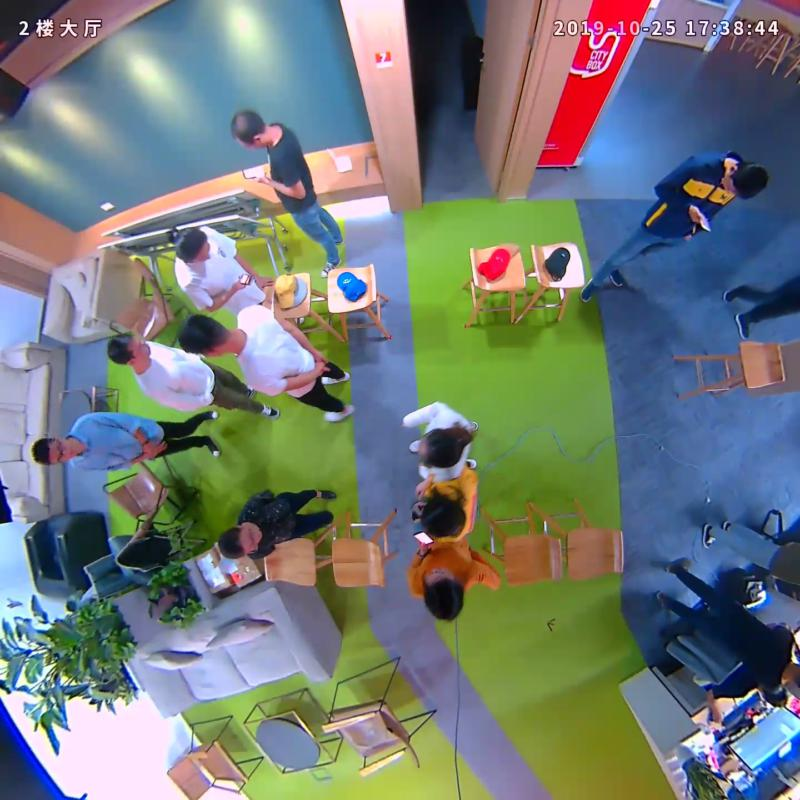head: (177, 315, 233, 357), (422, 567, 464, 621), (420, 494, 465, 539), (721, 160, 769, 200), (418, 428, 461, 469), (218, 523, 262, 561), (229, 109, 267, 151), (107, 330, 151, 364), (173, 226, 211, 265), (31, 435, 77, 465)
